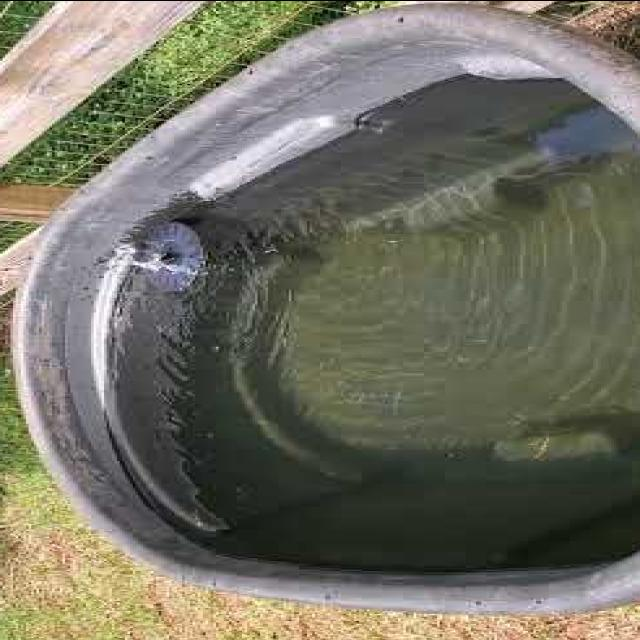Breeding Place: (7, 0, 640, 623)
